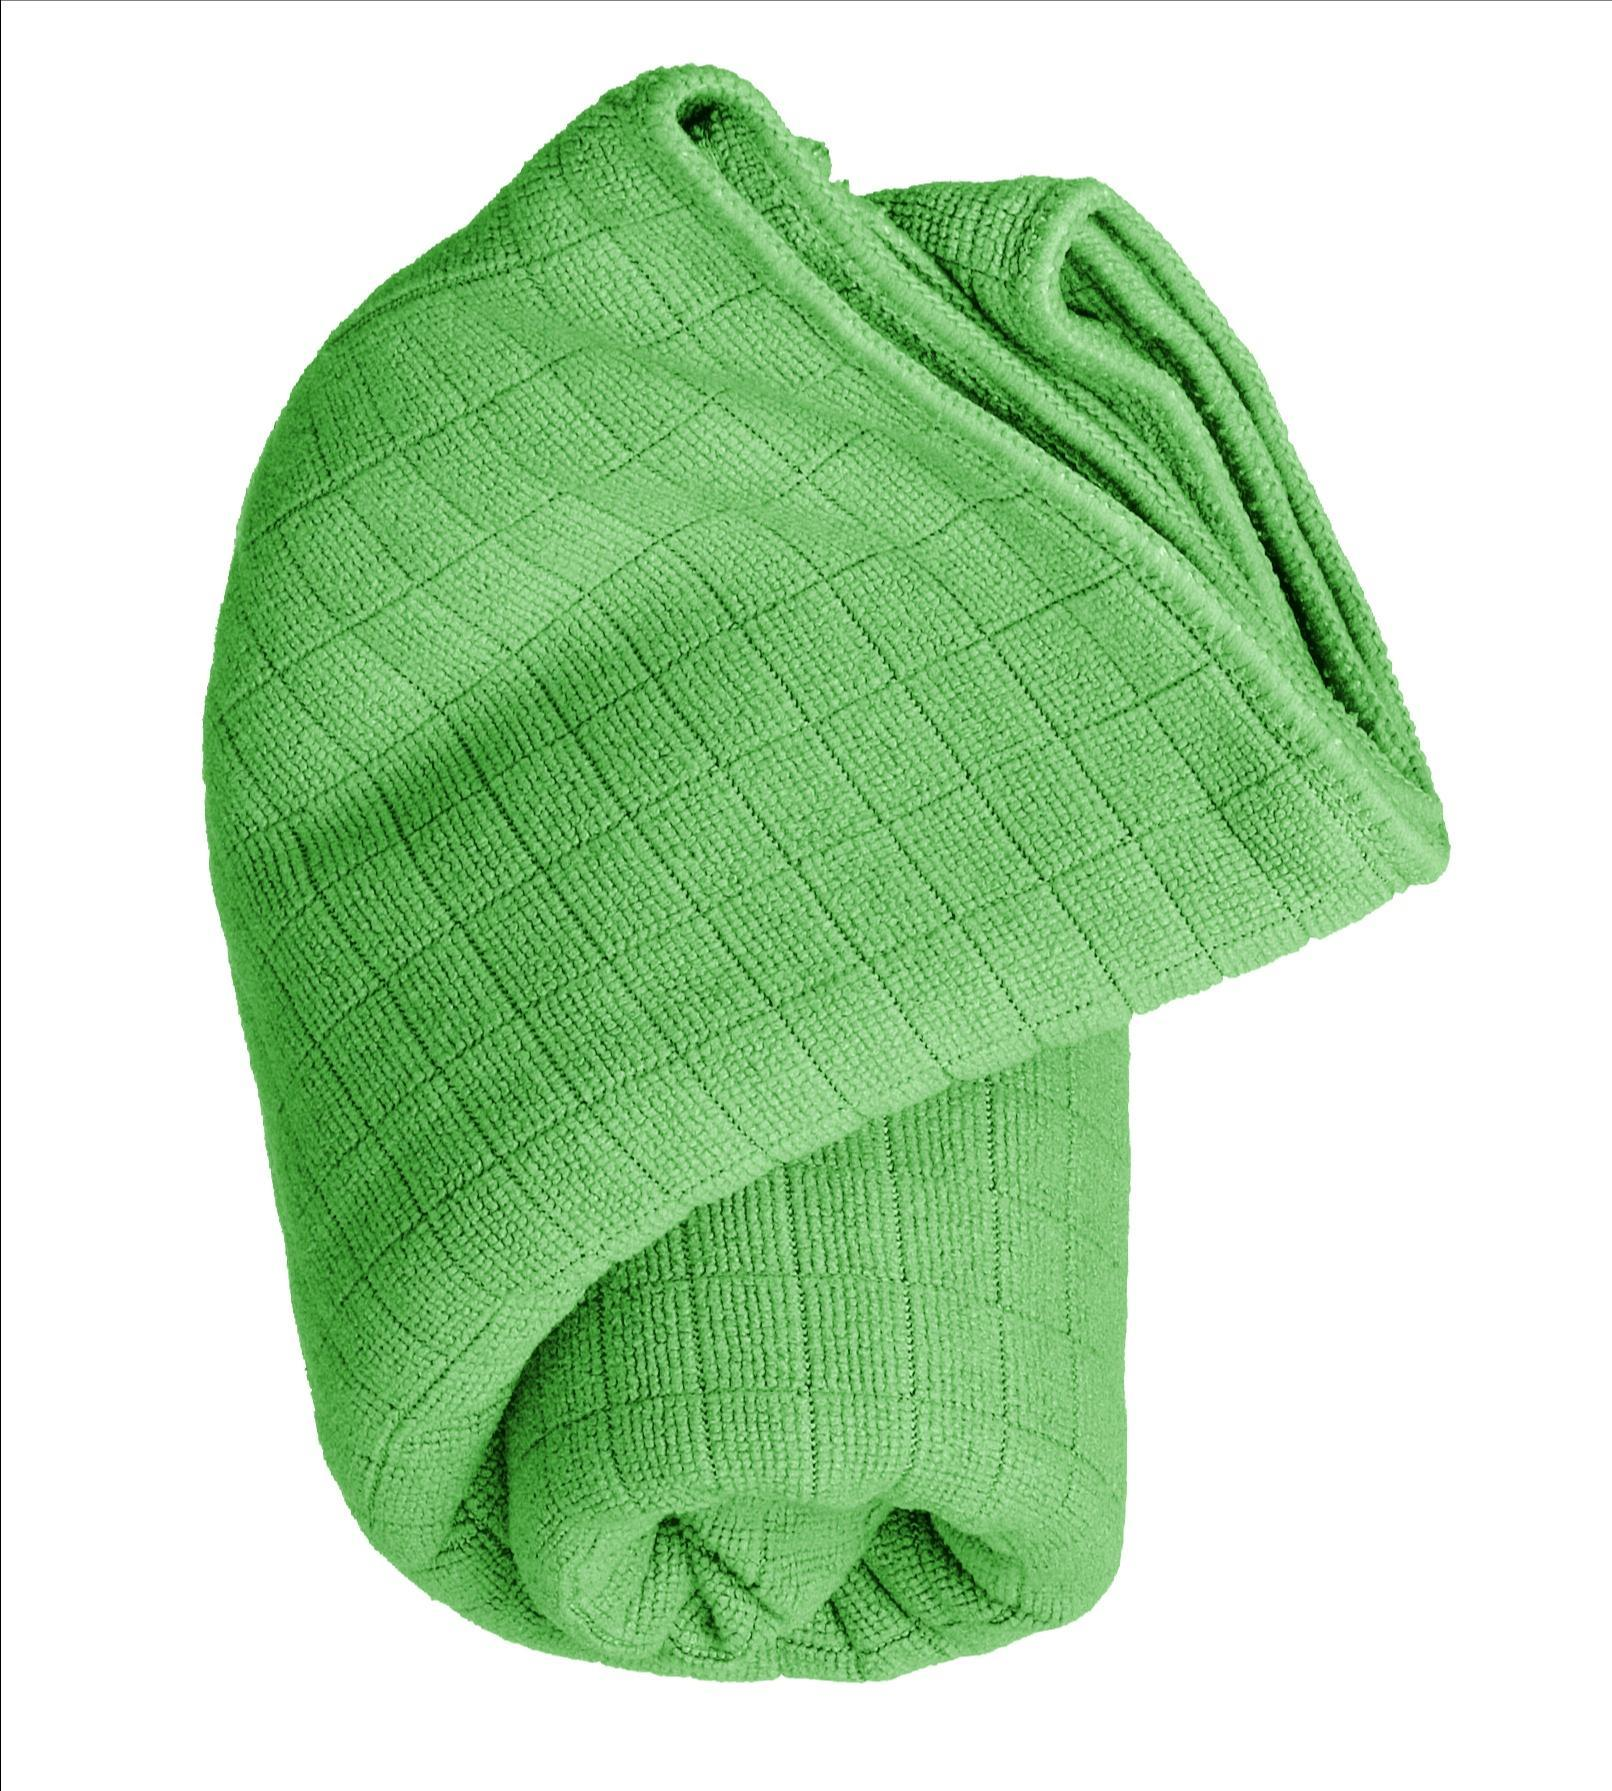towel: (70, 20, 1491, 1737)
